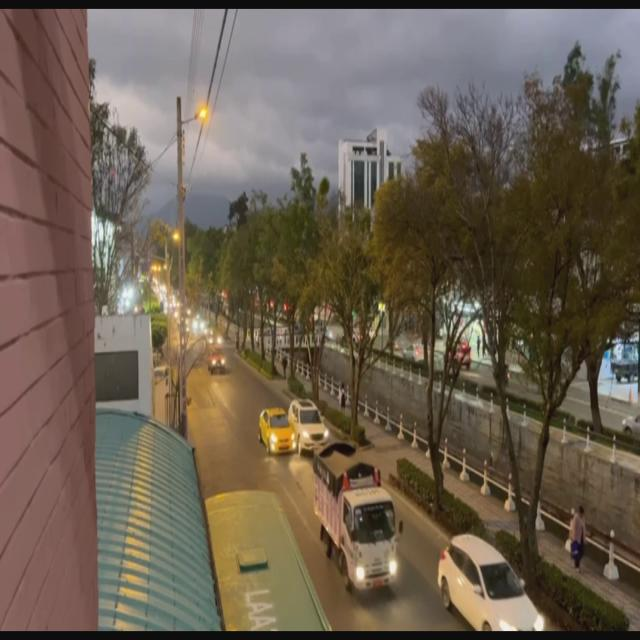SED: (262, 412, 295, 454)
SUV: (434, 530, 543, 638)
TRUCK: (310, 440, 396, 590)
